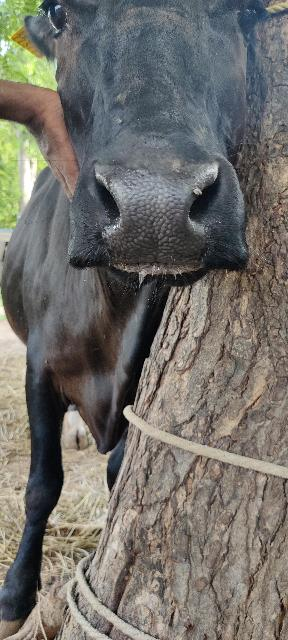Muzzle: (96, 175, 208, 261)
